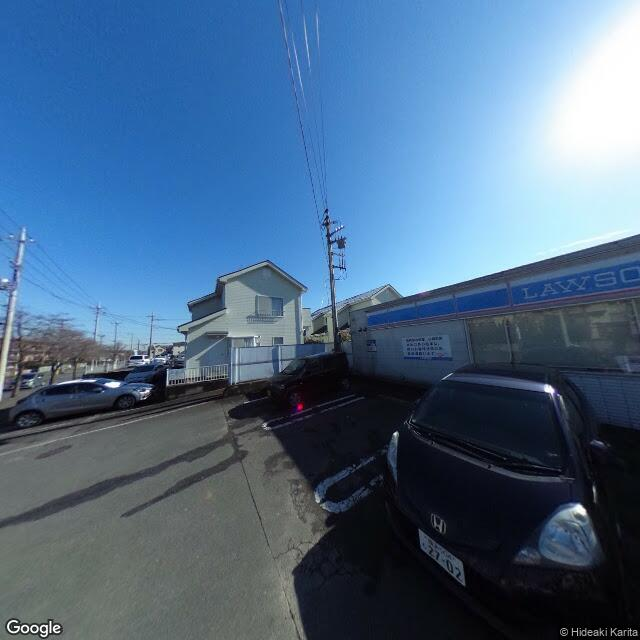lawson: (364, 246, 639, 331)
